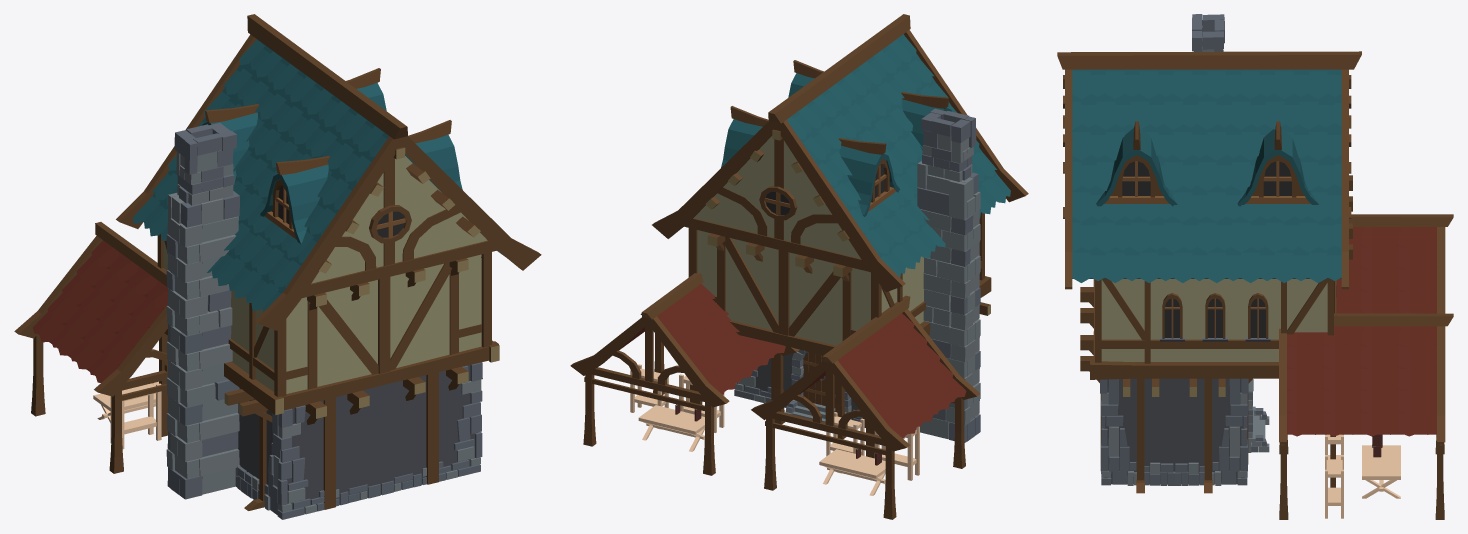
File: london_scholar_2.glb
3 views of the same model, side by side, from view 1: azimuth 30°, elevation 25°; view 2: azimuth 150°, elevation 25°; view 3: azimuth 270°, elevation 25° (orthographic). The views are drawn at different scales.
Parts seen in each view (by area): view 1: House_2, Gazebo, bookcaseOpenLow(Clone), tableCross(Clone); view 2: House_2, Gazebo (×2), tableCross(Clone) (×2), bookcaseOpenLow(Clone) (×4); view 3: House_2, Gazebo (×2), tableCross(Clone), bookcaseOpenLow(Clone).
Boxes of the visible parts, x1,y1,x2,y2 form: House_2: (116, 14, 541, 519); Gazebo: (14, 222, 167, 473); bookcaseOpenLow(Clone): (110, 383, 161, 449); tableCross(Clone): (93, 381, 158, 422); House_2: (652, 14, 1028, 458); Gazebo (×2): (570, 272, 980, 519); tableCross(Clone) (×2): (638, 405, 885, 495); bookcaseOpenLow(Clone) (×4): (630, 364, 919, 480); House_2: (1057, 14, 1361, 493); Gazebo (×2): (1279, 214, 1453, 519); tableCross(Clone): (1362, 445, 1400, 498); bookcaseOpenLow(Clone): (1325, 455, 1343, 518).
Size of the model in its own units: 20.13 by 19.5 by 18.26.
